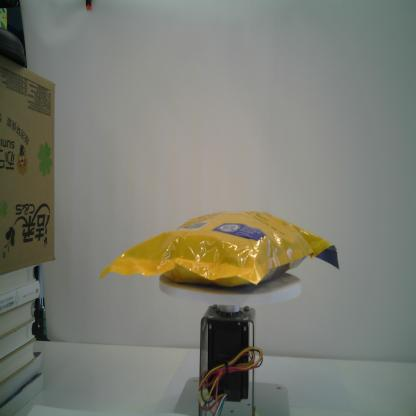Dried Food: (95, 207, 342, 289)
